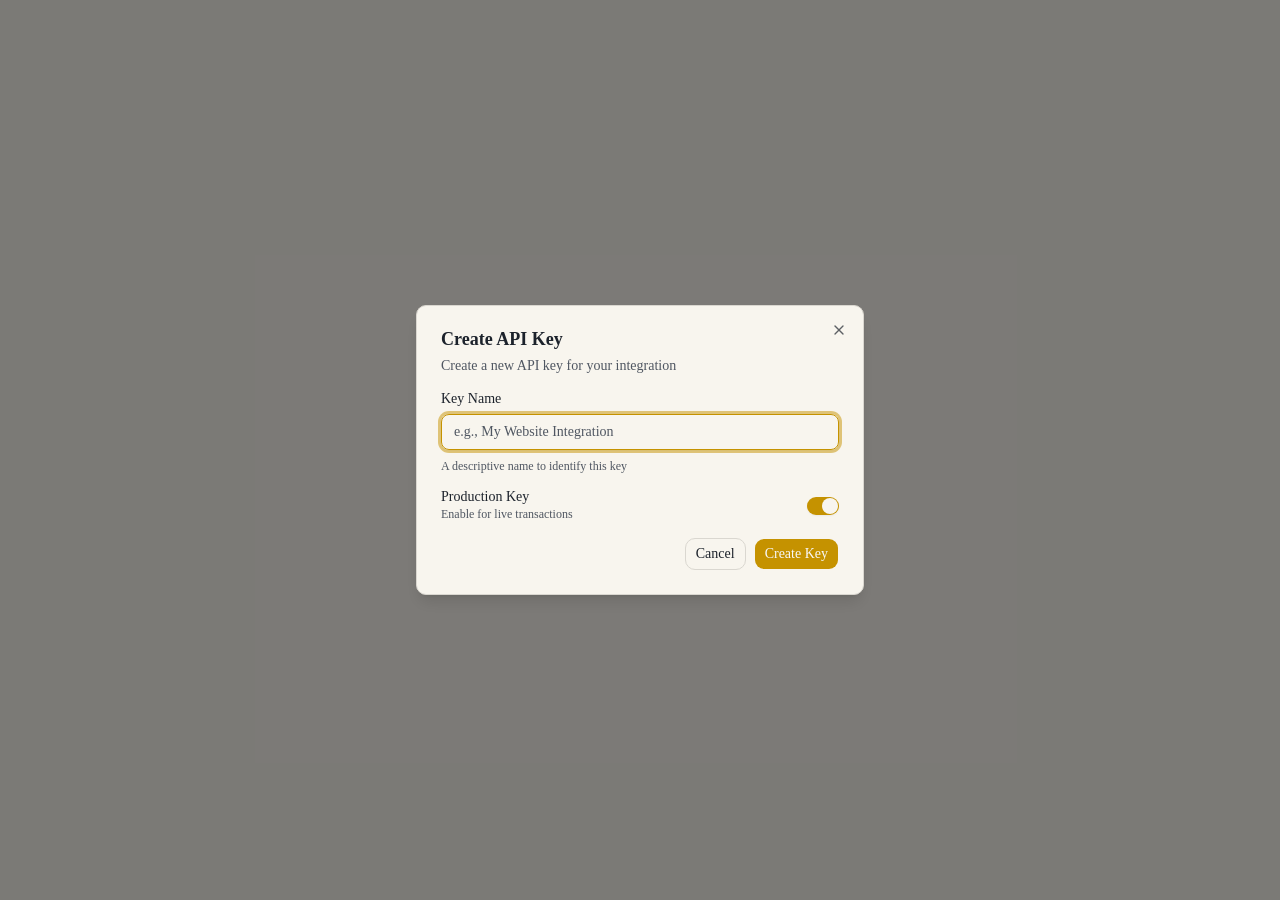
ApiKeyCreateModal › requires save action (copy/download) before final close action is enabled
Type "Website integration" into the field labelled "Key Name". click: (640, 432)
box: [441,414,839,450]
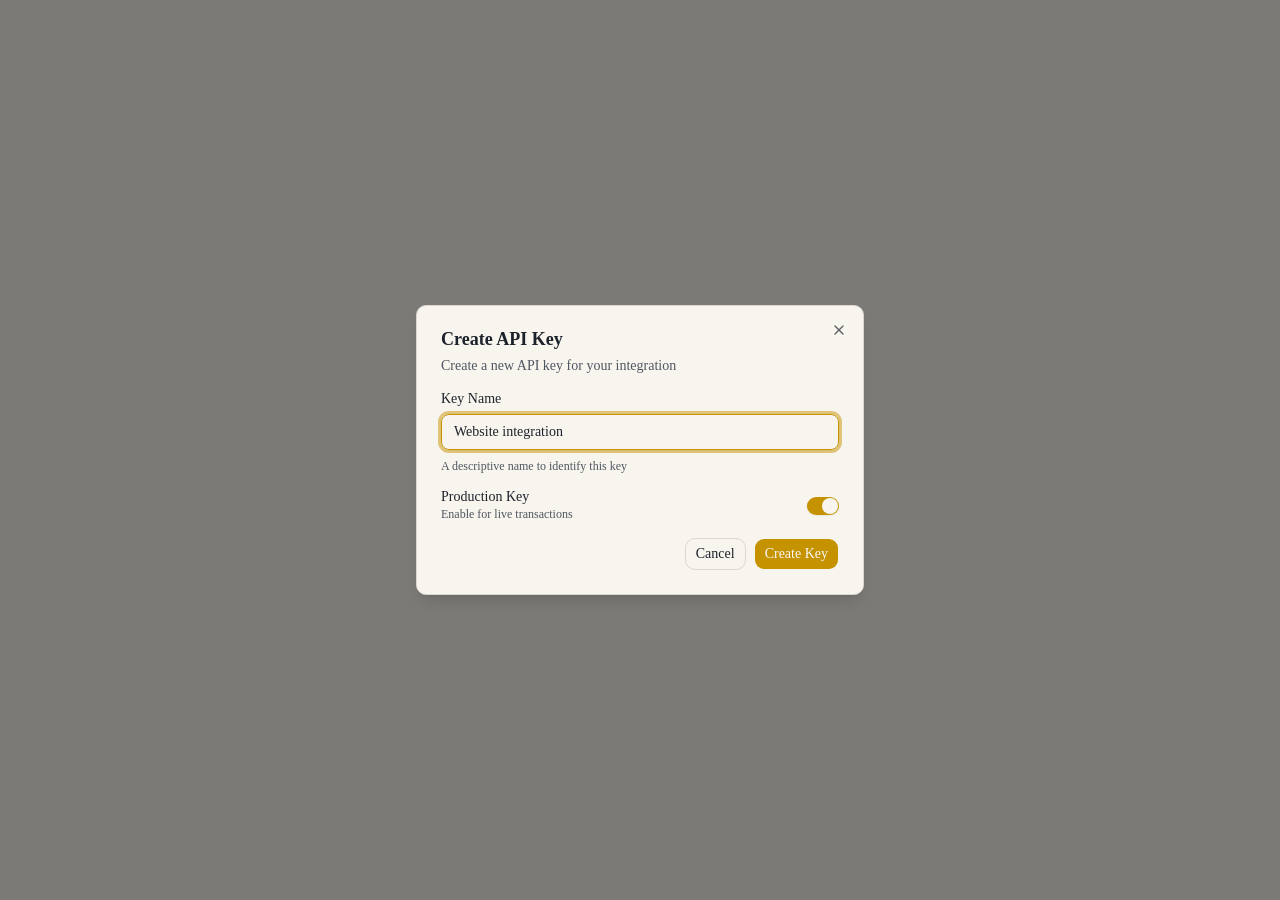
Click the button "Create Key". click: click(796, 554)
box: [754,538,839,570]
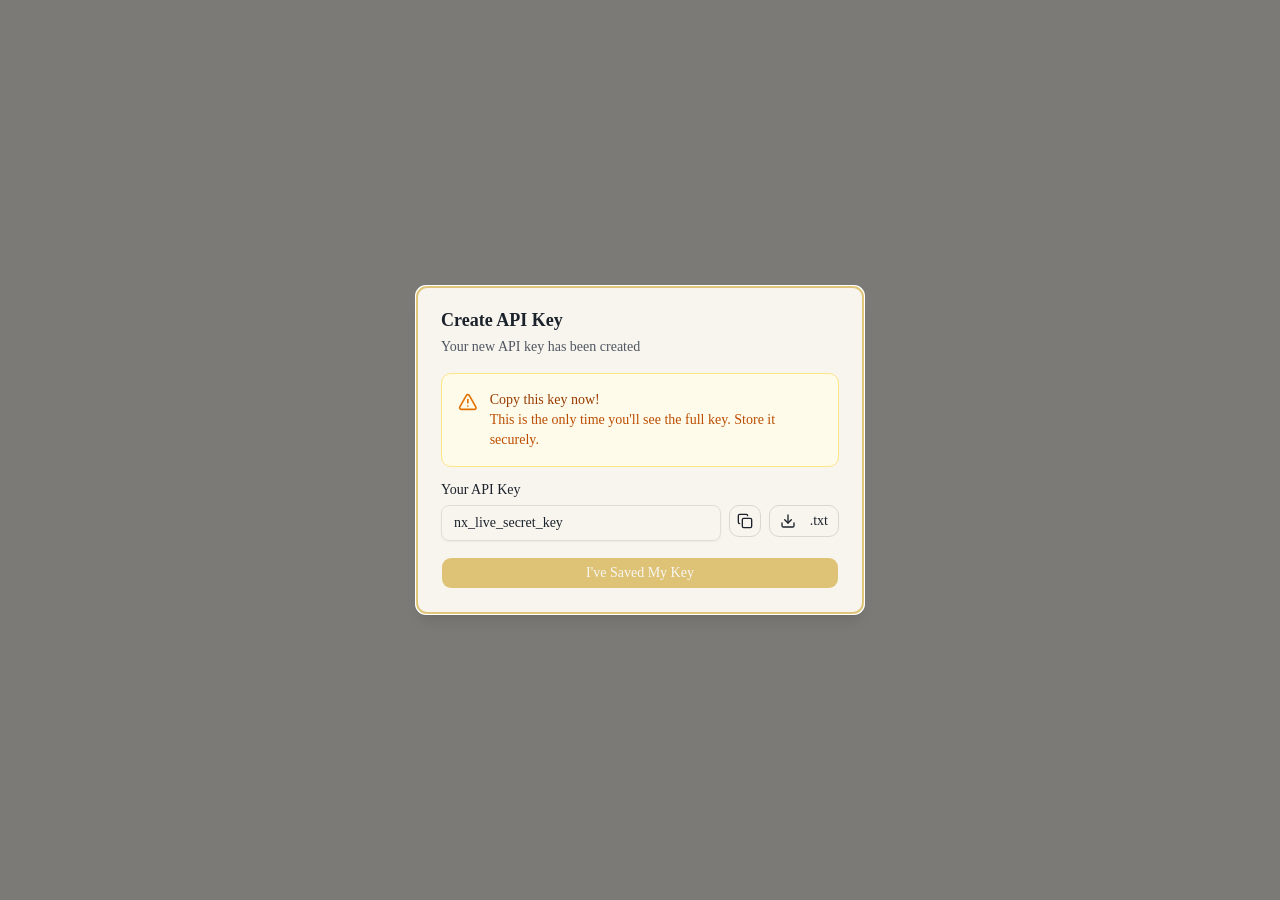
Now the text "Your API Key" is shown, box [441,482,520,497]
Now the button "I've Saved My Key" is disabled, box [441,557,839,589]
Click the button ".txt". click: click(804, 521)
box: [769,505,839,537]
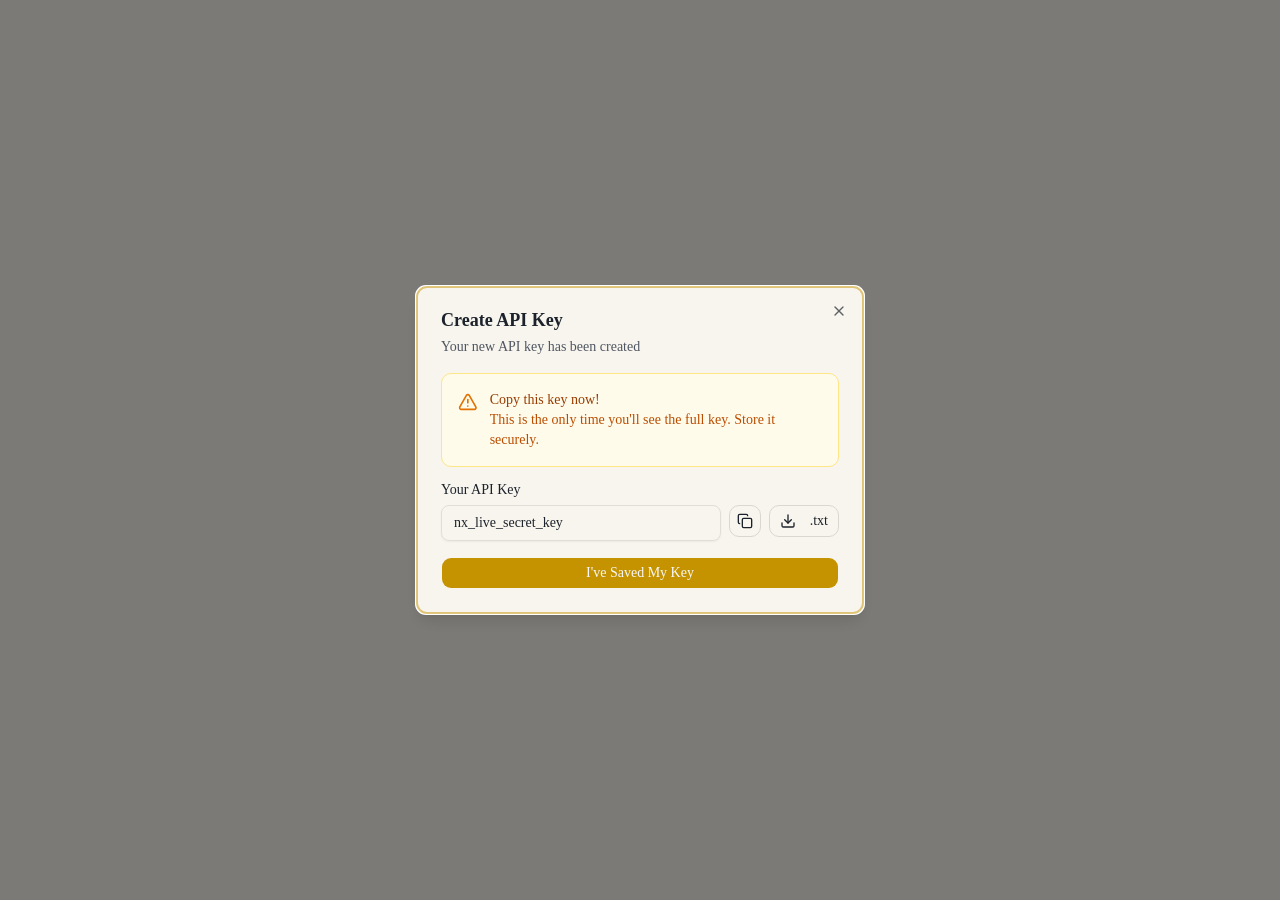
Now the button "I've Saved My Key" is enabled, box [441,557,839,589]
